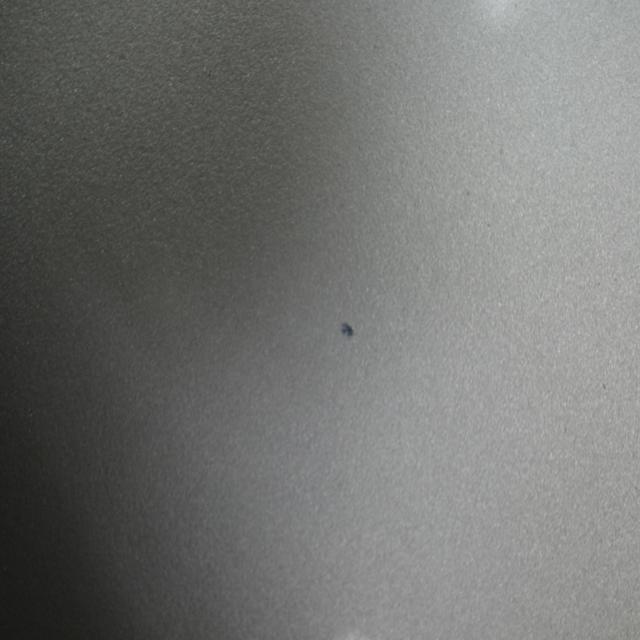dirt: (340, 316, 360, 342)
